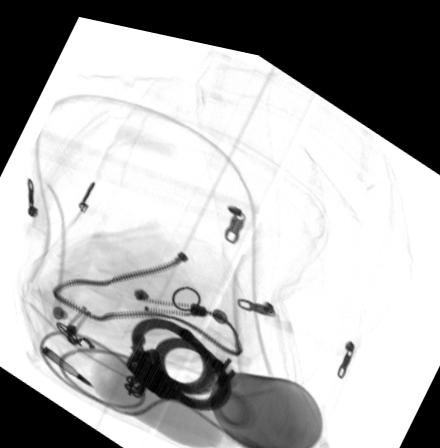Bullet: (40, 344, 92, 384)
HandCuffs: (120, 309, 231, 403)
